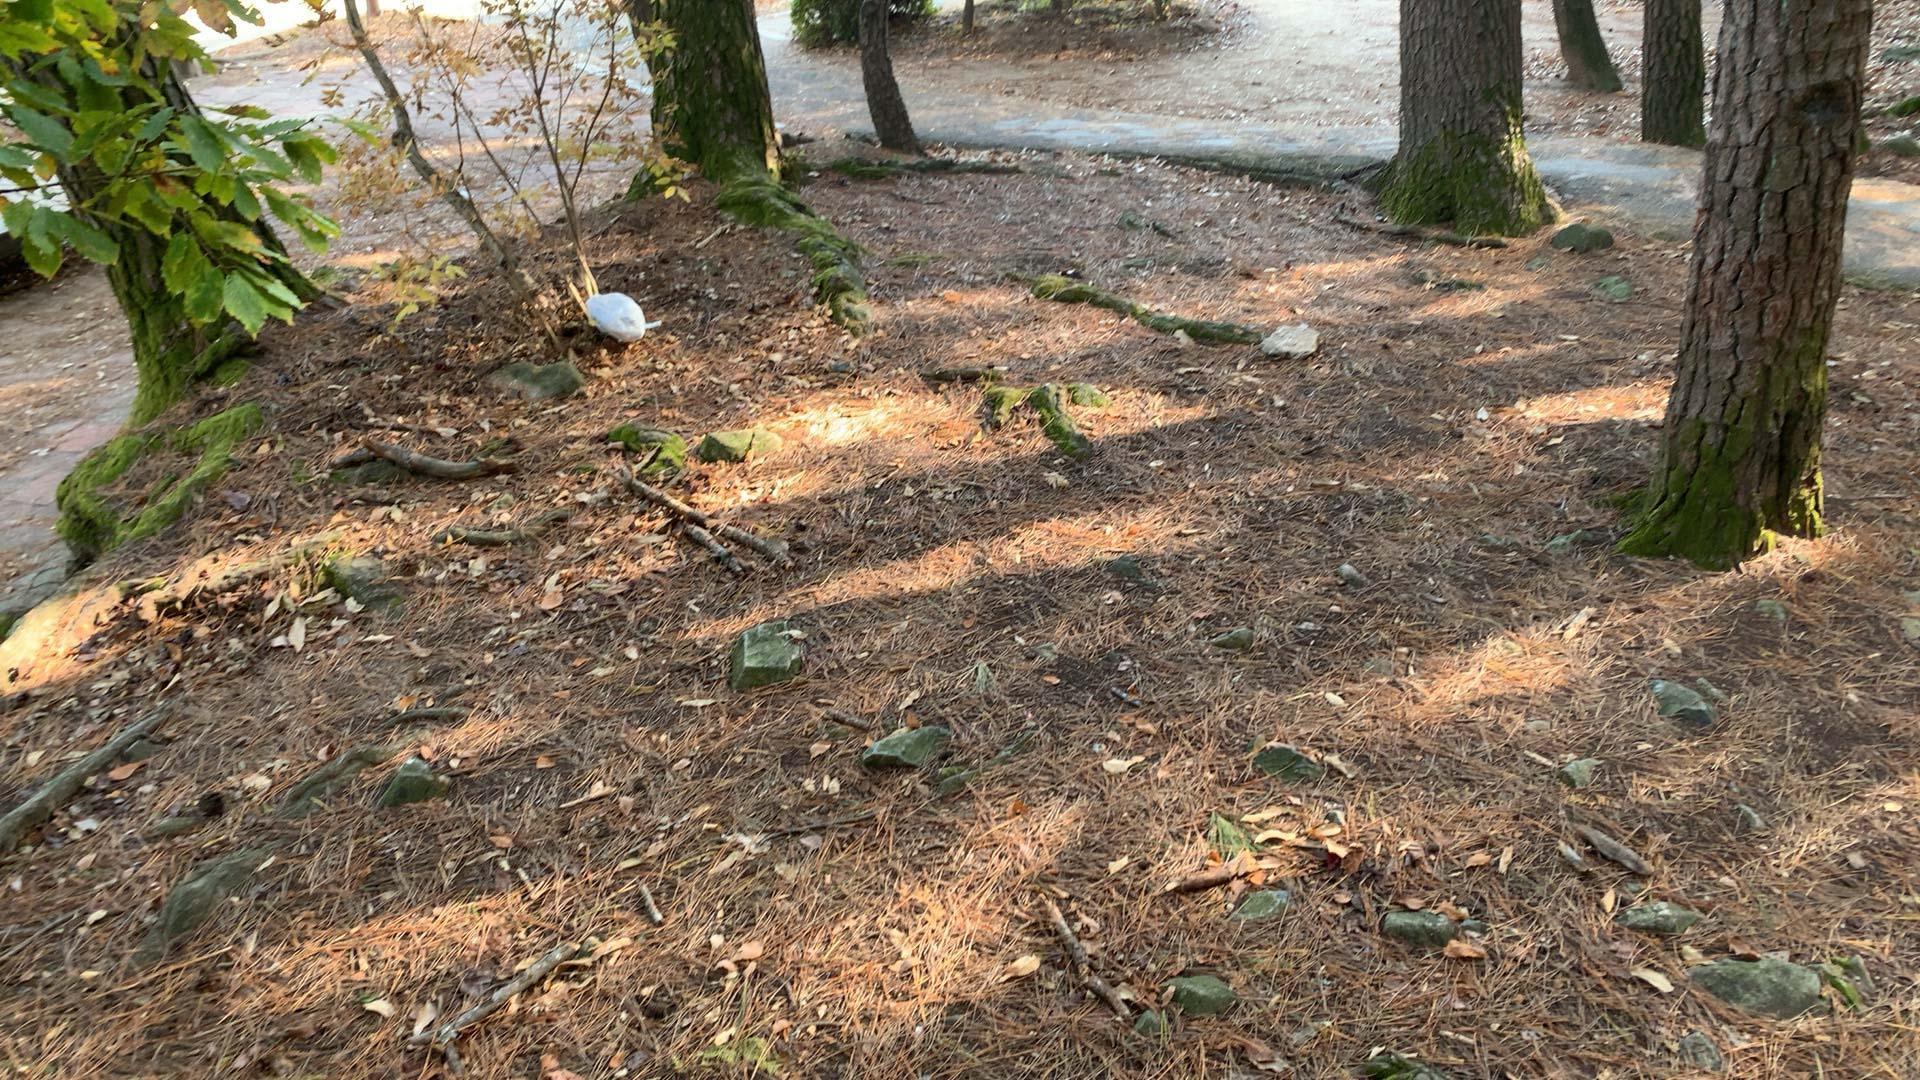white_bag: (575, 281, 669, 353)
